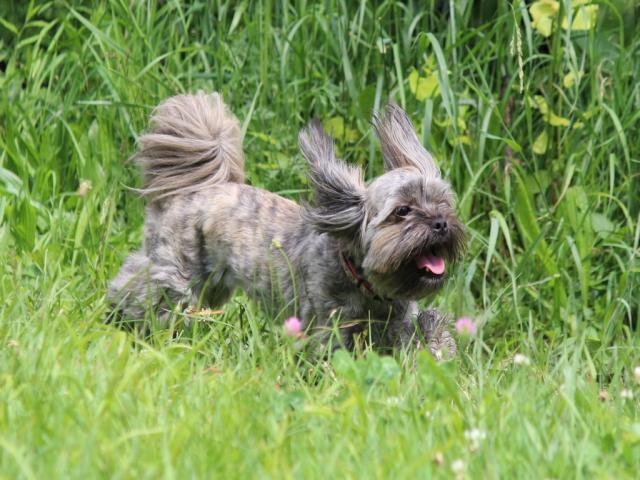Dog: (104, 85, 472, 377)
